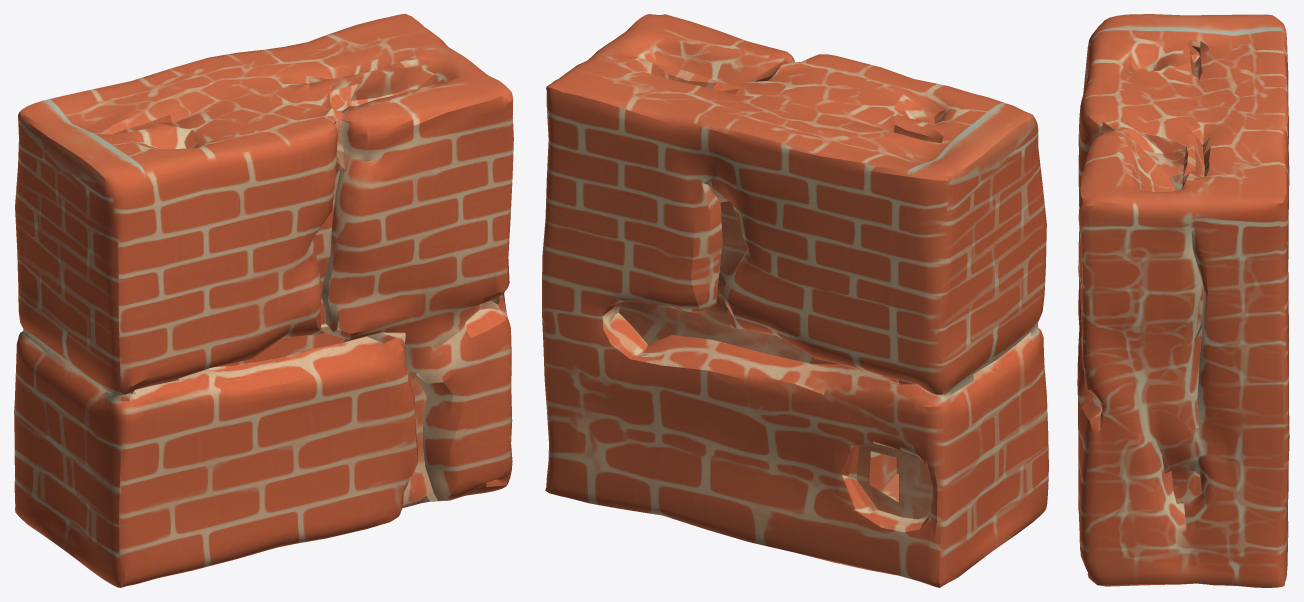
Rendered from brick_std_redbrick.glb.
3 renders of one model, left to right at view 1: azimuth 30°, elevation 25°; view 2: azimuth 150°, elevation 25°; view 3: azimuth 270°, elevation 25°, orthographic. The views are drawn at different scales.
Parts seen in each view (by area): view 1: Mesh_0; view 2: Mesh_0; view 3: Mesh_0.
Part boxes in pixels (box(x1,y1,x2,y2)): Mesh_0: box(14, 14, 513, 587); Mesh_0: box(542, 14, 1048, 587); Mesh_0: box(1077, 14, 1289, 587).
Bounding box in the file's own units: 1.9 × 1.84 × 0.904.
Materials: 1 (1 with a texture image).
